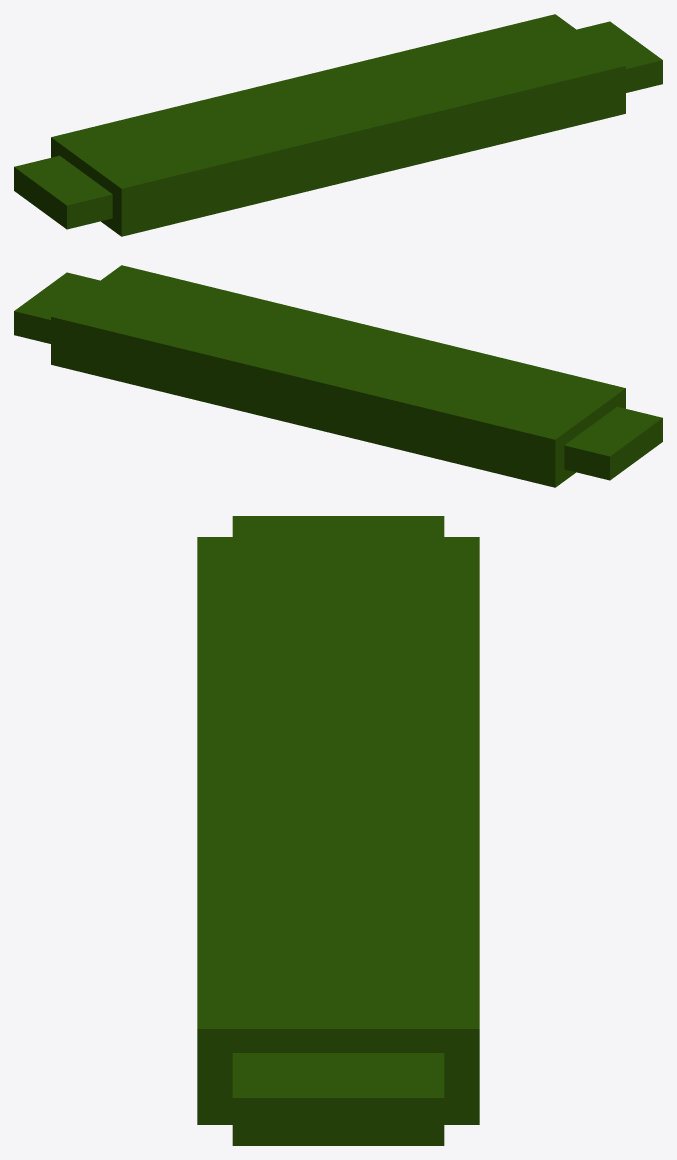
The model's file is original-29.obj.
3 views of the same model, one above another, from view 1: azimuth 30°, elevation 25°; view 2: azimuth 150°, elevation 25°; view 3: azimuth 270°, elevation 25° (orthographic). The views are drawn at different scales.
Parts seen in each view (by area): view 1: Web_frame_rails2/Web_frame_rails/mesh77/mesh77-geometry#mesh77-g; view 2: Web_frame_rails2/Web_frame_rails/mesh77/mesh77-geometry#mesh77-g; view 3: Web_frame_rails2/Web_frame_rails/mesh77/mesh77-geometry#mesh77-g.
Part boxes in pixels (<box>): Web_frame_rails2/Web_frame_rails/mesh77/mesh77-geometry#mesh77-g: <box>14,14,662,236</box>; Web_frame_rails2/Web_frame_rails/mesh77/mesh77-geometry#mesh77-g: <box>14,265,662,487</box>; Web_frame_rails2/Web_frame_rails/mesh77/mesh77-geometry#mesh77-g: <box>197,516,479,1145</box>.
Bounding box in the file's own units: 0.4274 × 0.0329 × 0.0877.
